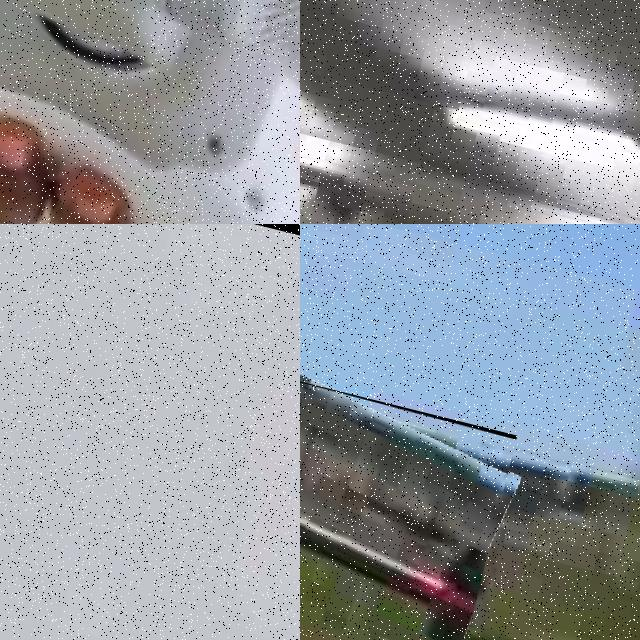drone: (0, 0, 300, 224), (300, 368, 517, 640)
